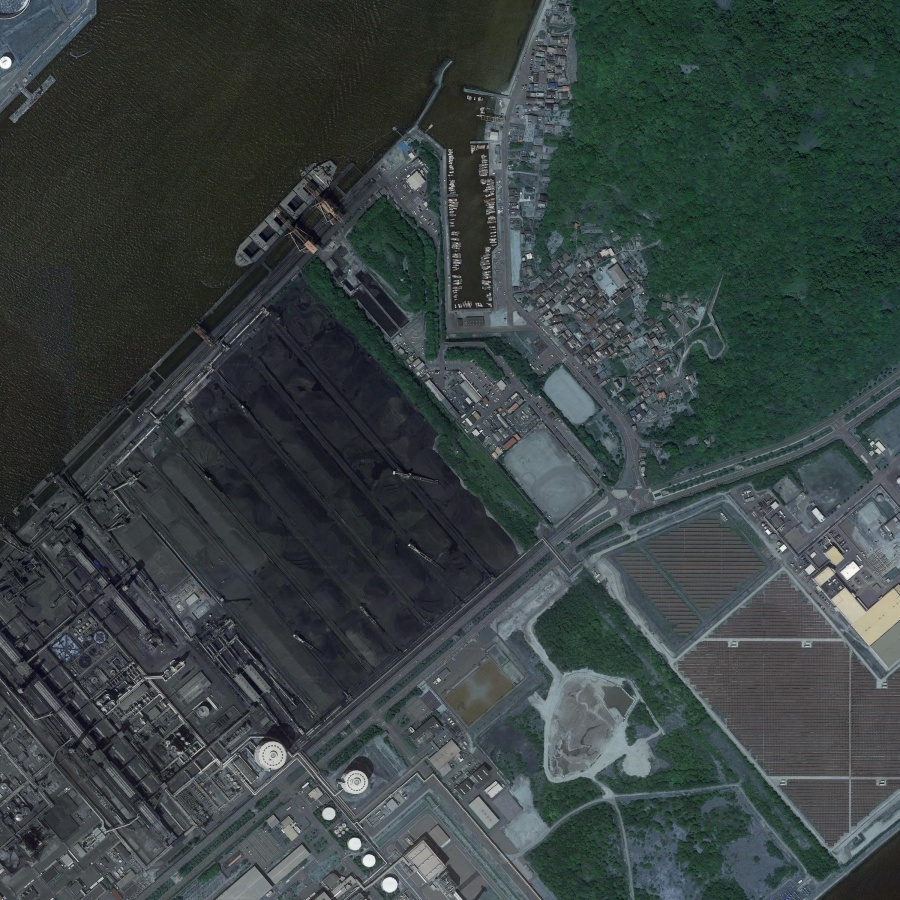PowerPlant: (146, 288, 532, 682)
